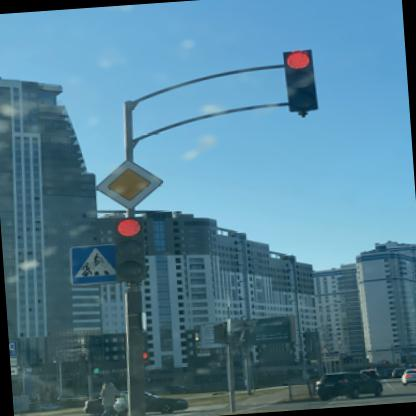crosswalk: (73, 244, 120, 284)
trafficlight: (114, 216, 150, 284), (286, 49, 320, 112)
